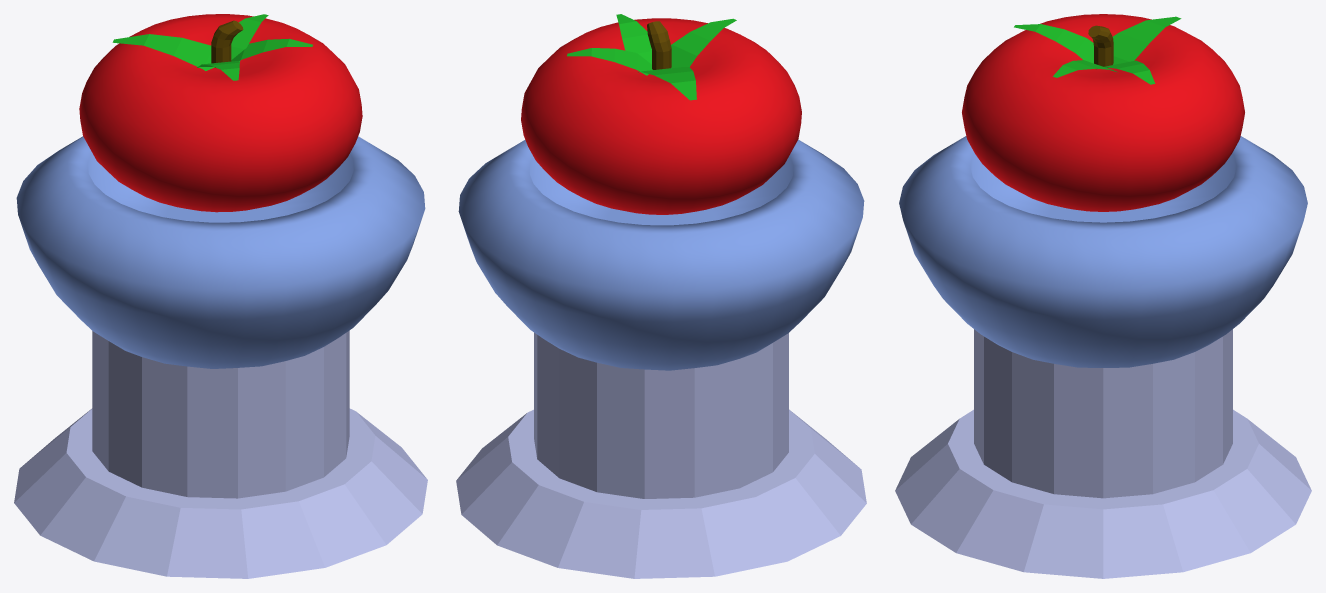
File: TomatoTower.glb
3 views of the same model, side by side, from view 1: azimuth 30°, elevation 25°; view 2: azimuth 150°, elevation 25°; view 3: azimuth 270°, elevation 25° (orthographic).
Parts seen in each view (by area): view 1: Cube, Cube.001, Sphere; view 2: Cube, Cube.001, Sphere; view 3: Cube, Cube.001, Sphere.
Boxes of the visible parts, bbox=[...] form: Cube: bbox=[14, 330, 427, 578]; Cube.001: bbox=[16, 136, 425, 368]; Sphere: bbox=[79, 14, 362, 212]; Cube: bbox=[456, 332, 866, 578]; Cube.001: bbox=[458, 139, 864, 370]; Sphere: bbox=[521, 14, 801, 214]; Cube: bbox=[895, 329, 1311, 578]; Cube.001: bbox=[899, 136, 1307, 367]; Sphere: bbox=[962, 14, 1244, 211].
Size of the model in its own units: 1.24 by 1.54 by 1.24.
